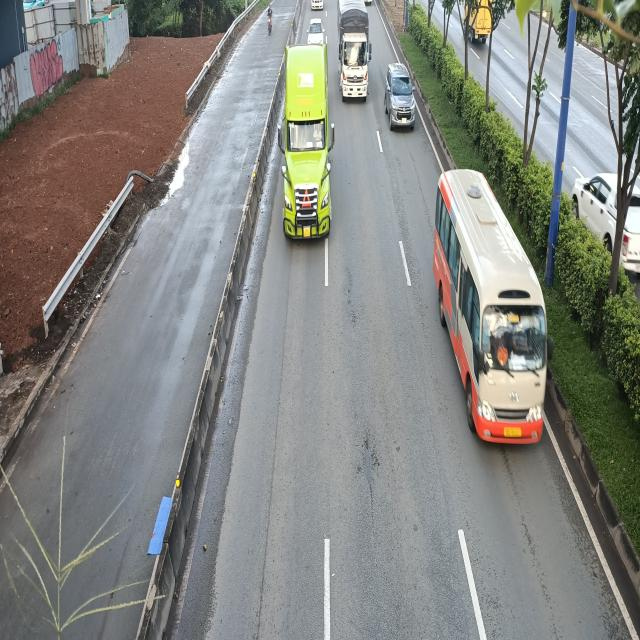car: (384, 63, 415, 131)
coach: (430, 172, 548, 452)
container: (276, 45, 334, 239)
truck: (338, 2, 372, 103)
